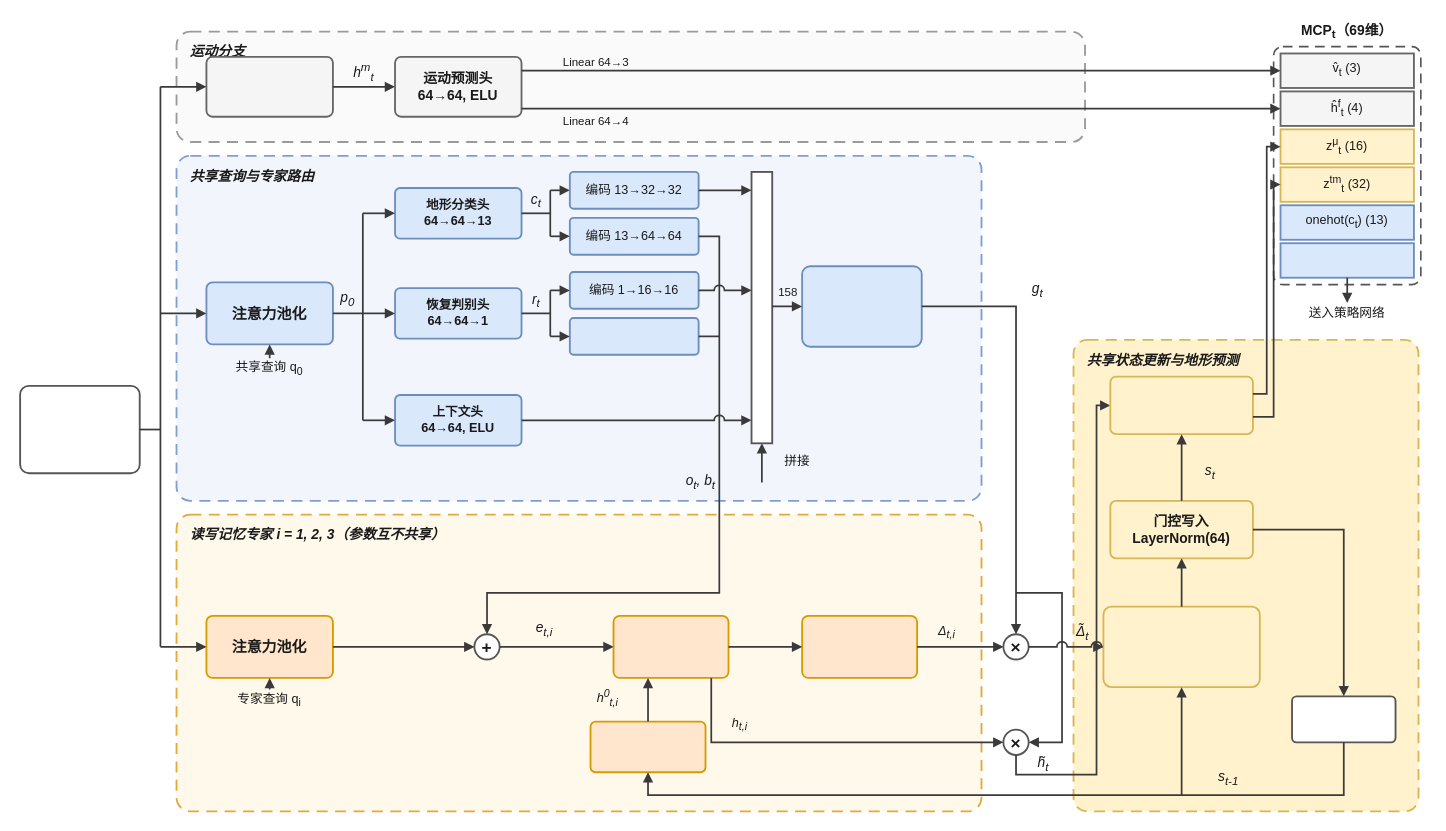
The diagram is 1446 pixels wide and 831 high, and some of its shapes have lost their labels. Each missing label, with the centre of its shape:
"GRUCell 64→64" goes at pixel 670 646.
"候选 F c : 128→64→64 写入门 F u : 128→64, σ 输入 [s t-1 , Δ̃ t ]" goes at pixel 1181 646.
"写MLP 64→64→64" goes at pixel 859 646.
"地形预测头 128→64, ELU" goes at pixel 1181 404.
"延迟一个 估计周期" goes at pixel 1343 719.
"编码 1→64→64" goes at pixel 633 335.
"融合本体特征 X t (10×64)" goes at pixel 79 429.
"读MLP 64→64→64" goes at pixel 647 746.
"路由MLP 158→128→3 Softmax" goes at pixel 861 306.
"运动GRU 1层, 隐状态64" goes at pixel 269 86.
"𝟙[r t ≥0.5] (1)" goes at pixel 1346 260.
